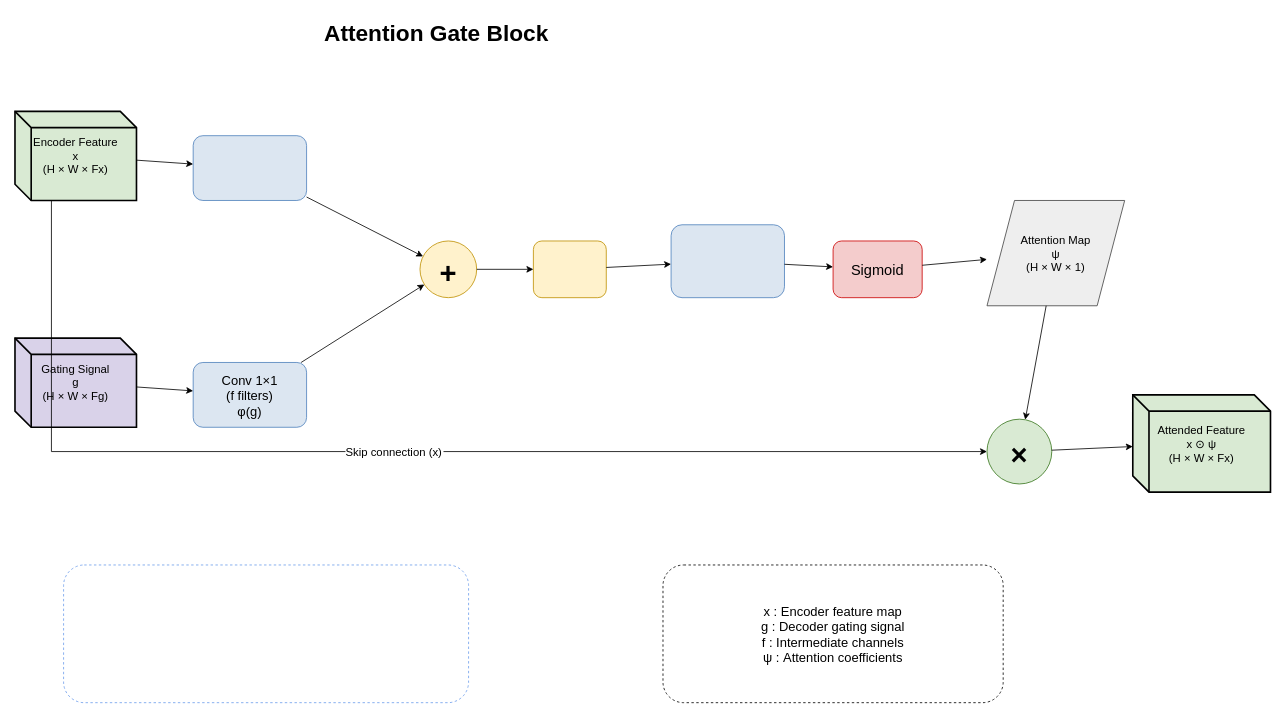
The diagram is 1285 pixels wide and 717 high, and some of its shapes have lost their labels. The shapes that lost their labels are listed below. From the top down, each one's centre as x and y in pixels, then its label:
the point at 249,167: Conv 1×1 (f filters) θ(x)
the point at 569,269: ReLU
the point at 727,261: Conv 1×1 (1 filter)
the point at 266,633: θ(x)=Wₓx φ(g)=Wgg α=ReLU(θ(x)+φ(g)) ψ=σ(Wψα+bψ) Output=x⊙ψ
